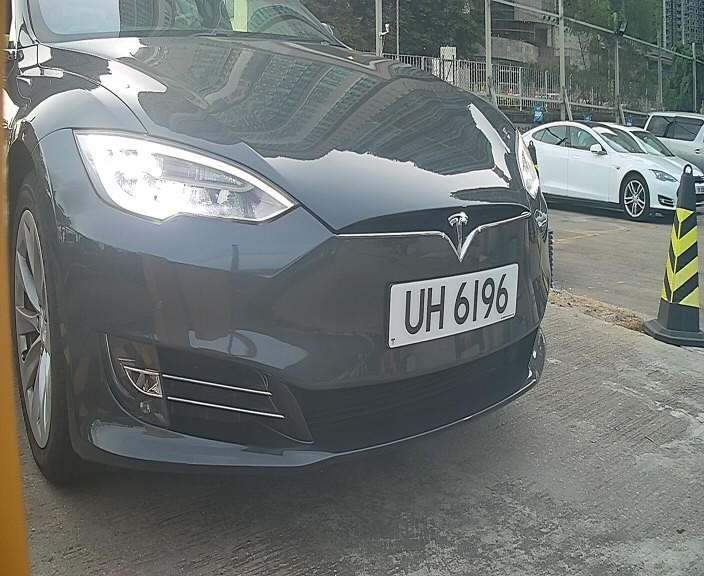License Plate: (381, 258, 529, 350)
